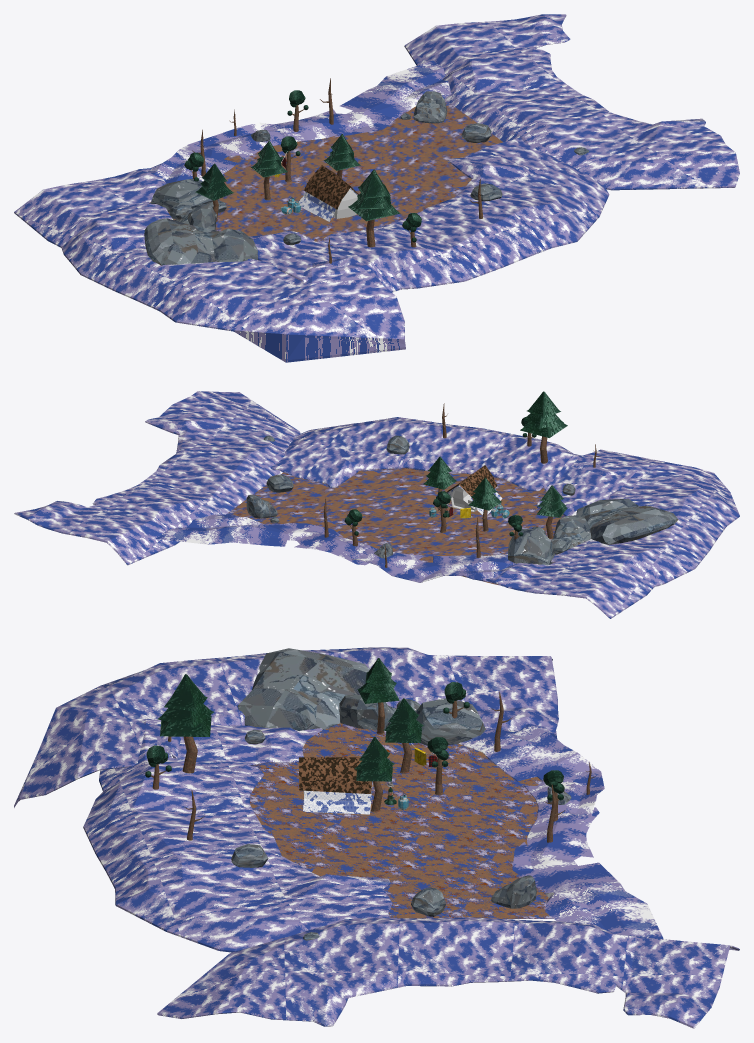
Rendered from escena1.glb.
3 renders of one model, top to bottom at view 1: azimuth 30°, elevation 25°; view 2: azimuth 150°, elevation 25°; view 3: azimuth 270°, elevation 25°, orthographic. The views are drawn at different scales.
Visible parts, largest first — view 1: nieve.007, nieve.006, nieve.002, Piso, nieve.005, piedra1.002, nieve.001, hoja3-arbol1.003, piedra3, Tienda-2, piedra1, hoja3-arbol1 (+4 smaller); view 2: nieve.006, nieve.007, nieve.002, Piso, nieve.005, piedra1.002, nieve.001, piedra3 (×2), hoja3-arbol1.003, piedra1.003, hoja3-arbol1.002, hoja3-arbol1 (+3 smaller); view 3: nieve.006, nieve.002, Piso, nieve.007, nieve.005, piedra1.002, nieve.001, piedra3 (×3), hoja3-arbol1.003, Tienda-2, Tienda-1, hoja3-arbol1.001 (+5 smaller).
Part boxes in pixels (bbox=[...]): nieve.007: bbox=[14, 168, 405, 362]; nieve.006: bbox=[404, 14, 739, 190]; nieve.002: bbox=[249, 138, 609, 292]; Piso: bbox=[149, 99, 502, 241]; nieve.005: bbox=[268, 60, 451, 140]; piedra1.002: bbox=[144, 218, 258, 265]; nieve.001: bbox=[147, 122, 307, 183]; hoja3-arbol1.003: bbox=[348, 169, 400, 247]; piedra3: bbox=[150, 178, 218, 212]; Tienda-2: bbox=[303, 165, 358, 209]; piedra1: bbox=[413, 91, 446, 123]; hoja3-arbol1: bbox=[251, 140, 287, 200]; nieve.006: bbox=[14, 391, 300, 565]; nieve.007: bbox=[486, 449, 739, 618]; nieve.002: bbox=[270, 417, 637, 516]; Piso: bbox=[226, 468, 565, 592]; nieve.005: bbox=[156, 514, 377, 565]; piedra1.002: bbox=[576, 498, 678, 544]; nieve.001: bbox=[351, 548, 515, 583]; piedra3 (×2): bbox=[266, 474, 554, 565]; hoja3-arbol1.003: bbox=[520, 391, 567, 463]; piedra1.003: bbox=[553, 515, 591, 549]; hoja3-arbol1.002: bbox=[536, 485, 567, 539]; hoja3-arbol1: bbox=[468, 477, 501, 531]; nieve.006: bbox=[157, 917, 739, 1028]; nieve.002: bbox=[83, 719, 392, 952]; Piso: bbox=[250, 723, 553, 918]; nieve.007: bbox=[14, 647, 558, 807]; nieve.005: bbox=[512, 806, 663, 938]; piedra1.002: bbox=[237, 648, 369, 730]; nieve.001: bbox=[458, 724, 604, 818]; piedra3 (×3): bbox=[231, 698, 485, 916]; hoja3-arbol1.003: bbox=[157, 674, 213, 773]; Tienda-2: bbox=[299, 757, 372, 793]; Tienda-1: bbox=[303, 781, 372, 814]; hoja3-arbol1.001: bbox=[354, 737, 394, 812].
Bounding box in the file's own units: 67.14 × 13.45 × 53.01.
22 materials, 22 textured.
